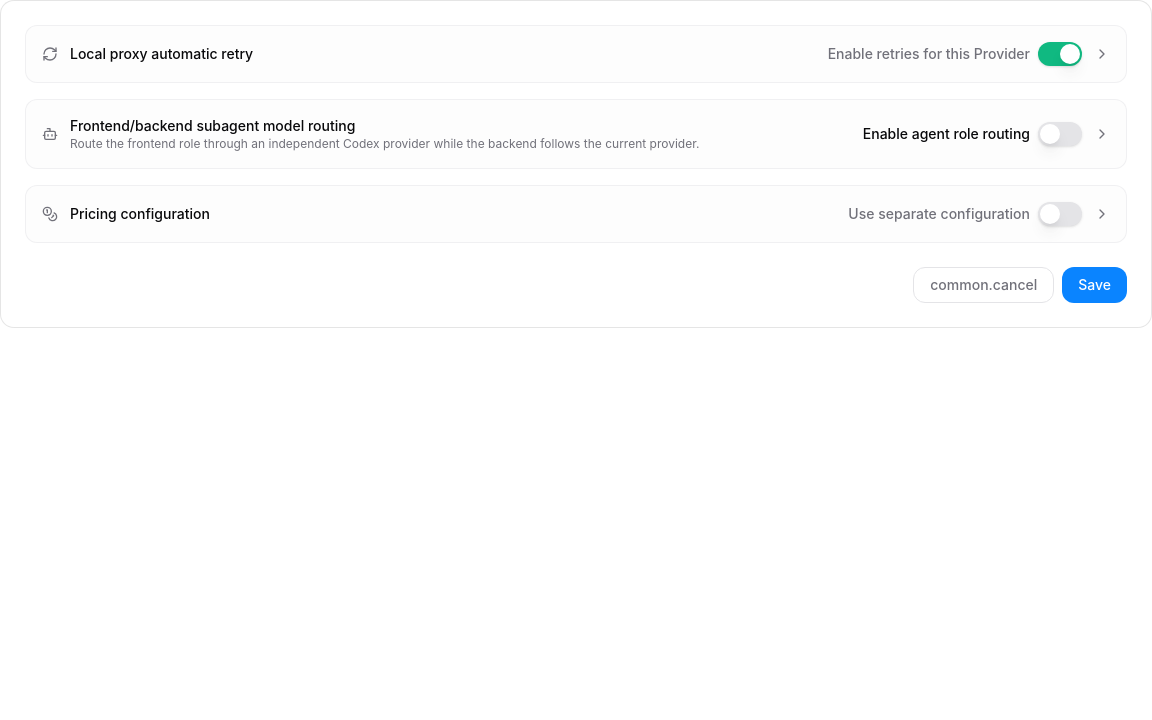
Test: ProviderForm provider retry policy › loads an existing retry policy in edit mode
This screenshot has width=1152, height=720.
Click the button "Local proxy automatic retry": (162,54) left=42, top=42, right=1110, bottom=66
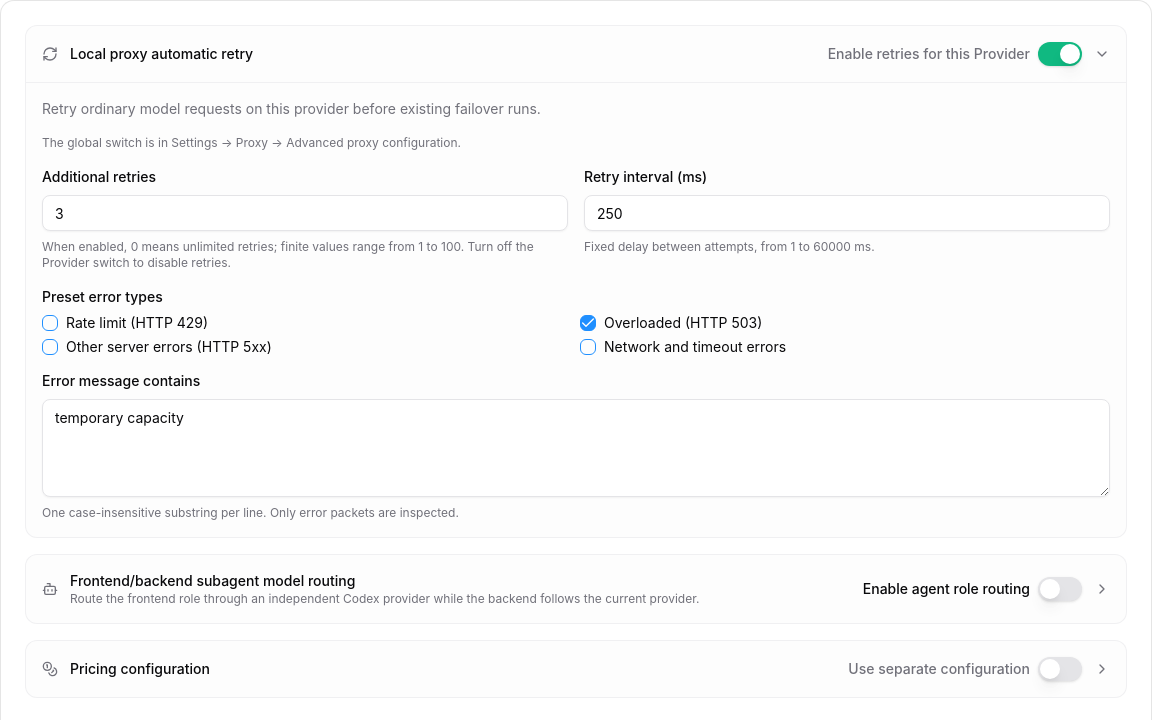
Expected: the number field labelled "Additional retries" holds "3", left=42, top=195, right=568, bottom=231
Expected: the number field labelled "Retry interval (ms)" holds "250", left=584, top=195, right=1110, bottom=231
Expected: the text box labelled "Error message contains" holds "temporary capacity", left=42, top=399, right=1110, bottom=497
